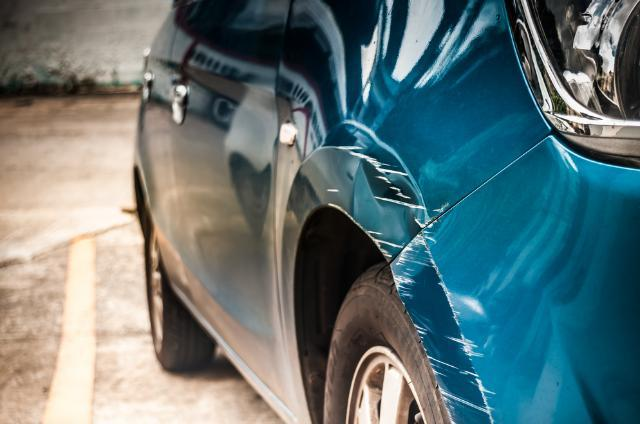Bumper: (384, 206, 523, 424)
Fender: (308, 107, 457, 260)
